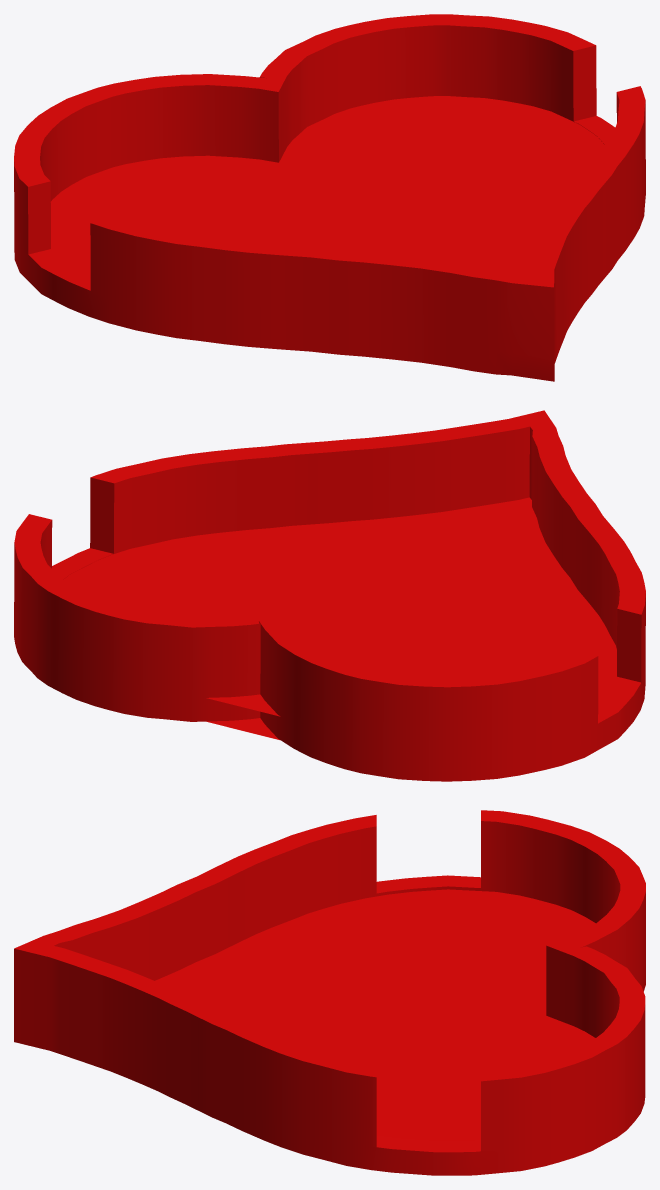
File: Organ_Heart_2_Rectangular_Cuts.fbx
3 views of the same model, one above another, from view 1: azimuth 30°, elevation 25°; view 2: azimuth 150°, elevation 25°; view 3: azimuth 270°, elevation 25° (orthographic).
Visible parts, largest first — view 1: _12_04_Extruded_Color_Heart_No_Cuts:polySurface2; view 2: _12_04_Extruded_Color_Heart_No_Cuts:polySurface2; view 3: _12_04_Extruded_Color_Heart_No_Cuts:polySurface2.
Part boxes in pixels (x1,y1,x2,y2): _12_04_Extruded_Color_Heart_No_Cuts:polySurface2: [14, 14, 645, 381]; _12_04_Extruded_Color_Heart_No_Cuts:polySurface2: [14, 410, 645, 781]; _12_04_Extruded_Color_Heart_No_Cuts:polySurface2: [14, 810, 645, 1175].
Bounding box in the file's own units: 5.55 × 0.8986 × 5.35.
